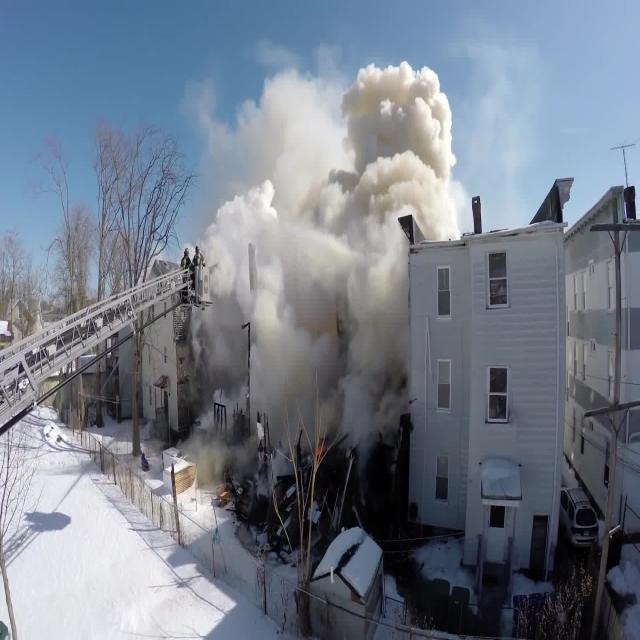smoke: (231, 100, 402, 420), (404, 67, 453, 233)
